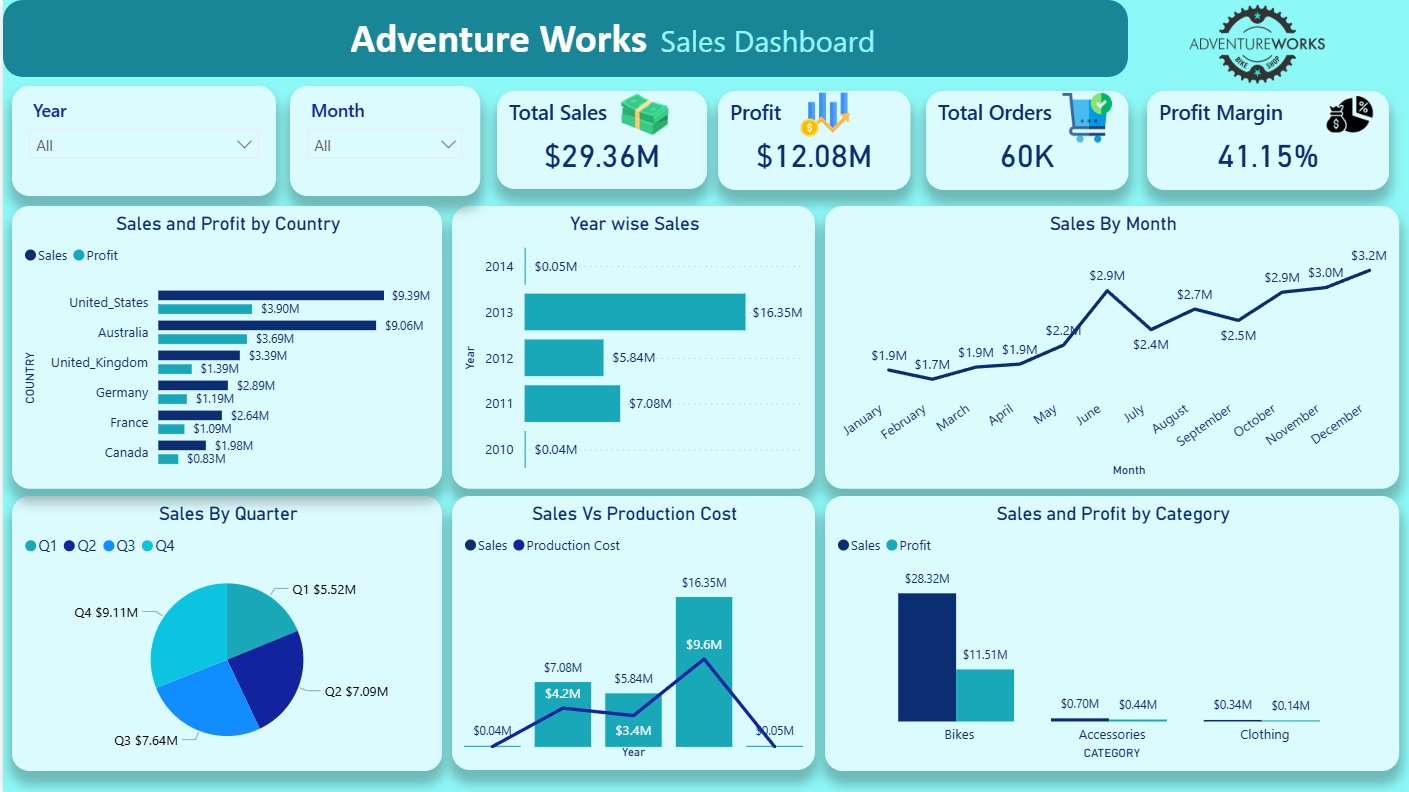

The page's visual inventory and layout, read from the dashboard file:
{"tool":"powerbi","page":{"name":"Home Page","canvas":[1280,720],"ordinal":0},"visuals":[{"type":"card","title":"Total Sales","fields":{"Values":["Sum(Sales_Table.Sales_Amount)"]},"box":[449,83,191,89],"z":0},{"type":"card","title":"Profit","fields":{"Values":["Sum(Sales_Table.profit)"]},"box":[650,83,175,90],"z":1000},{"type":"card","title":"Total Orders","fields":{"Values":["Sum(Sales_Table.OrderQuantity)"]},"box":[839,83,184,90],"z":2000},{"type":"card","title":"Profit Margin","fields":{"Values":["Sales_Table.Profit Margin %"]},"box":[1040,83,220,90],"z":3000},{"type":"barChart","title":"Year wise Sales","fields":{"Category":["Sales_Table.Year"],"Y":["Sum(Sales_Table.Sales_Amount)"]},"box":[408,187,330,257],"z":4000},{"type":"lineChart","title":"Sales By Month","fields":{"Category":["Sales_Table.OrderDate.Variation.Date Hierarchy.Month"],"Y":["Sum(Sales_Table.Sales_Amount)"]},"box":[747,187,522,257],"z":5000},{"type":"slicer","fields":{"Values":["Sales_Table.Year"]},"box":[7.8,77.8,240,100],"z":6000},{"type":"slicer","fields":{"Values":["Sales_Table.OrderDate.Variation.Date Hierarchy.Month"]},"box":[260.9,78.2,172.7,100],"z":7000},{"type":"image","box":[1040,2.7,201.8,75.5],"z":8000},{"type":"pieChart","title":"Sales By Quarter","fields":{"Category":["Sales_Table.Quarter"],"Y":["Sum(Sales_Table.Sales_Amount)"]},"box":[8,451,391,250],"z":9000},{"type":"clusteredColumnChart","title":"Sales and Profit by Category","fields":{"Category":["Sales_Table. CATEGORY"],"Y":["Sum(Sales_Table.Sales_Amount)","Sum(Sales_Table.profit)"]},"box":[747,451,522,250],"z":10000},{"type":"clusteredBarChart","title":"Sales and Profit by Country","fields":{"Category":["Sales_Table.COUNTRY"],"Y":["Sum(Sales_Table.Sales_Amount)","Sum(Sales_Table.profit)"]},"box":[8,187,391,257],"z":11000},{"type":"lineStackedColumnComboChart","title":"Sales Vs Production Cost","fields":{"Category":["Sales_Table.Year"],"Y":["Sum(Sales_Table.Sales_Amount)"],"Y2":["Sum(Sales_Table.Production_cost)"]},"box":[408.2,450.9,330,249.1],"z":12000},{"type":"shape","box":[0,0,1022.7,70],"z":13000},{"type":"textbox","box":[311,6,523,58],"z":14000},{"type":"image","box":[559.1,75.5,49.1,57.3],"z":15000},{"type":"image","box":[690.9,81.8,112.7,45.5],"z":16000},{"type":"image","box":[938.2,84.5,94.5,45.5],"z":17000},{"type":"image","box":[1200.9,71.8,47.3,65.5],"z":18000}]}

Visuals, with their boxes in screenshot pixels (x1, y1, x2, y2), scaled from the page's 1280x720 canvas onto the 1409x792 screenshot:
"Total Sales" card: {"left": 494, "top": 91, "right": 704, "bottom": 189}
"Profit" card: {"left": 716, "top": 91, "right": 908, "bottom": 190}
"Total Orders" card: {"left": 924, "top": 91, "right": 1126, "bottom": 190}
"Profit Margin" card: {"left": 1145, "top": 91, "right": 1387, "bottom": 190}
"Year wise Sales" barChart: {"left": 449, "top": 206, "right": 812, "bottom": 488}
"Sales By Month" lineChart: {"left": 822, "top": 206, "right": 1397, "bottom": 488}
slicer - Sales_Table.Year: {"left": 9, "top": 86, "right": 273, "bottom": 196}
slicer - Sales_Table.OrderDate.Variation.Date Hierarchy.Month: {"left": 287, "top": 86, "right": 477, "bottom": 196}
image: {"left": 1145, "top": 3, "right": 1367, "bottom": 86}
"Sales By Quarter" pieChart: {"left": 9, "top": 496, "right": 439, "bottom": 771}
"Sales and Profit by Category" clusteredColumnChart: {"left": 822, "top": 496, "right": 1397, "bottom": 771}
"Sales and Profit by Country" clusteredBarChart: {"left": 9, "top": 206, "right": 439, "bottom": 488}
"Sales Vs Production Cost" lineStackedColumnComboChart: {"left": 449, "top": 496, "right": 813, "bottom": 770}
shape: {"left": 0, "top": 0, "right": 1126, "bottom": 77}
textbox: {"left": 342, "top": 7, "right": 918, "bottom": 70}
image: {"left": 615, "top": 83, "right": 669, "bottom": 146}
image: {"left": 761, "top": 90, "right": 885, "bottom": 140}
image: {"left": 1033, "top": 93, "right": 1137, "bottom": 143}
image: {"left": 1322, "top": 79, "right": 1374, "bottom": 151}
